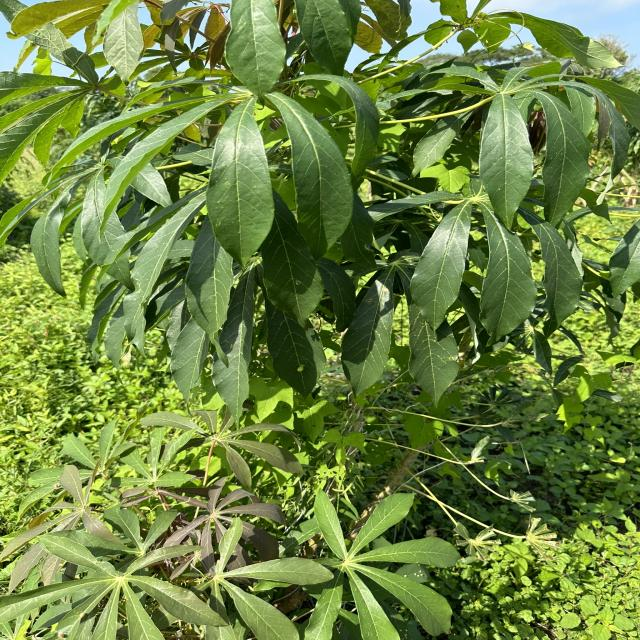Maleza: (495, 378, 640, 640), (0, 323, 118, 423), (299, 386, 382, 479)
Mosca: (288, 357, 311, 378)
